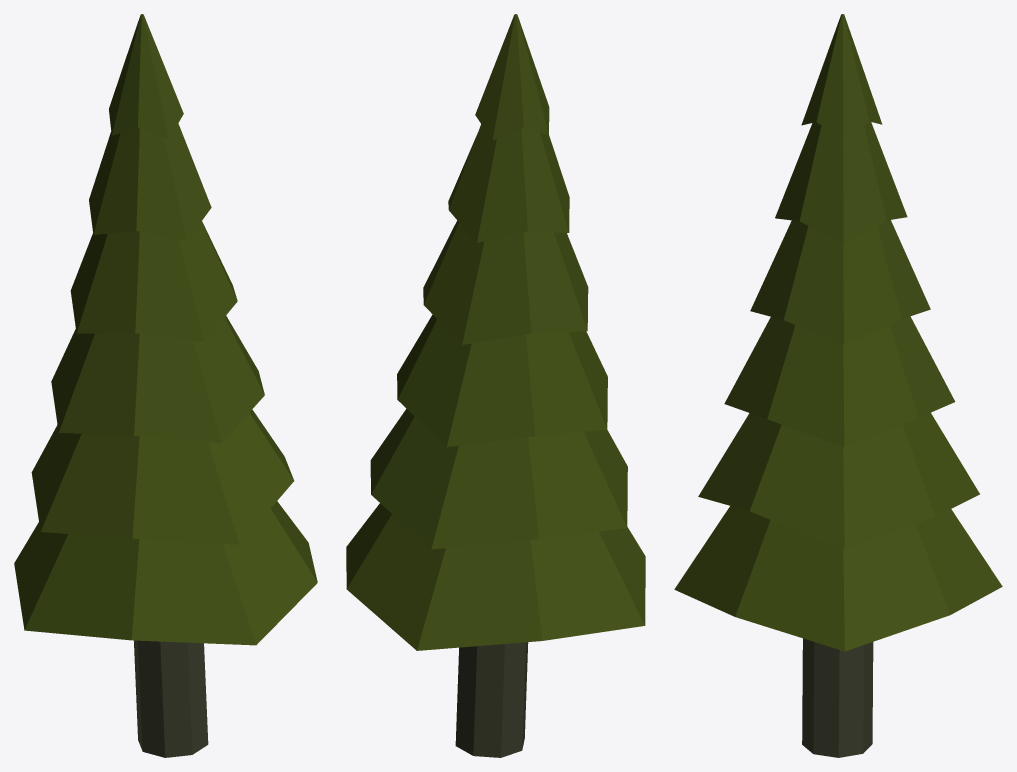
Rendered from Tree [06].fbx.
3 renders of one model, left to right at view 1: azimuth 30°, elevation 25°; view 2: azimuth 150°, elevation 25°; view 3: azimuth 270°, elevation 25°, orthographic. The views are drawn at different scales.
Parts seen in each view (by area): view 1: tree5fairyfoxy; view 2: tree5fairyfoxy; view 3: tree5fairyfoxy.
Boxes of the visible parts, box(x1,y1,x2,y2) form: tree5fairyfoxy: box(14, 14, 317, 757); tree5fairyfoxy: box(346, 14, 645, 757); tree5fairyfoxy: box(674, 14, 1002, 757).
Size of the model in its own units: 208 by 501 by 208.
